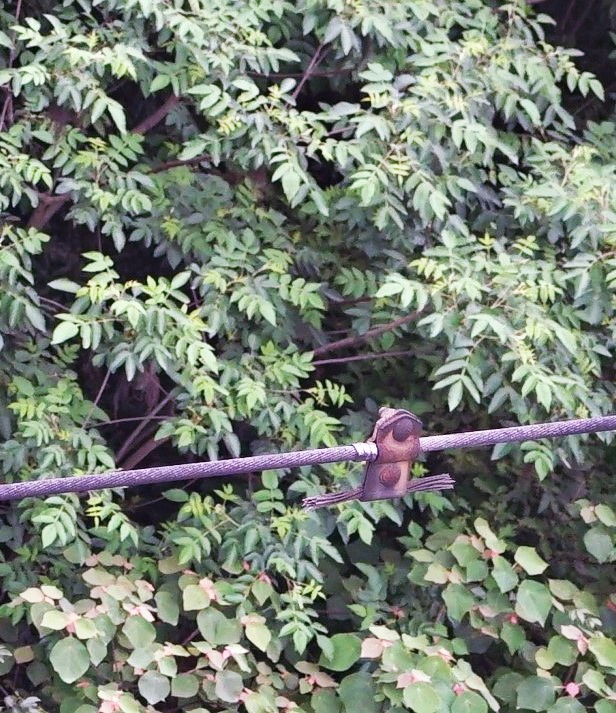Damage of shockproof hammer: (302, 404, 456, 514)
